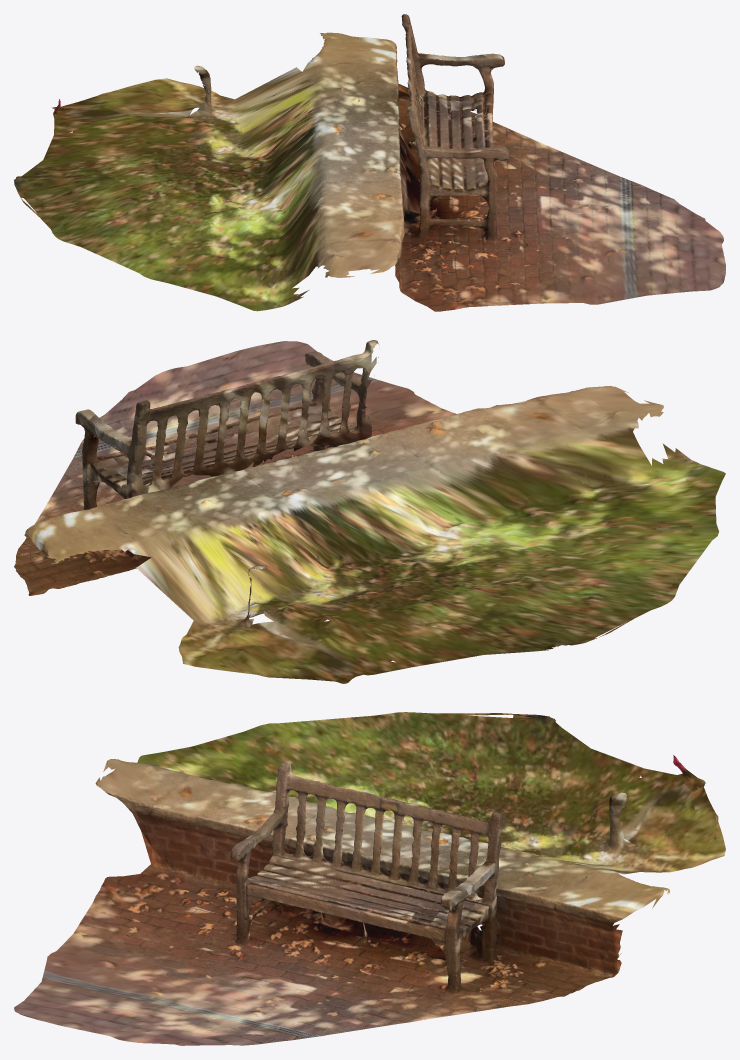
Rendered from class-class-scan-14-09.glb.
3 views of the same model, one above another, from view 1: azimuth 30°, elevation 25°; view 2: azimuth 150°, elevation 25°; view 3: azimuth 270°, elevation 25° (orthographic). The views are drawn at different scales.
Parts seen in each view (by area): view 1: mesh; view 2: mesh; view 3: mesh.
Part boxes in pixels (x1=…): mesh: x1=14, y1=14, x2=725, y2=311; mesh: x1=14, y1=340, x2=725, y2=683; mesh: x1=14, y1=712, x2=725, y2=1045.
Bounding box in the file's own units: 3.96 × 0.965 × 4.07.
Materials: 1 (1 with a texture image).
